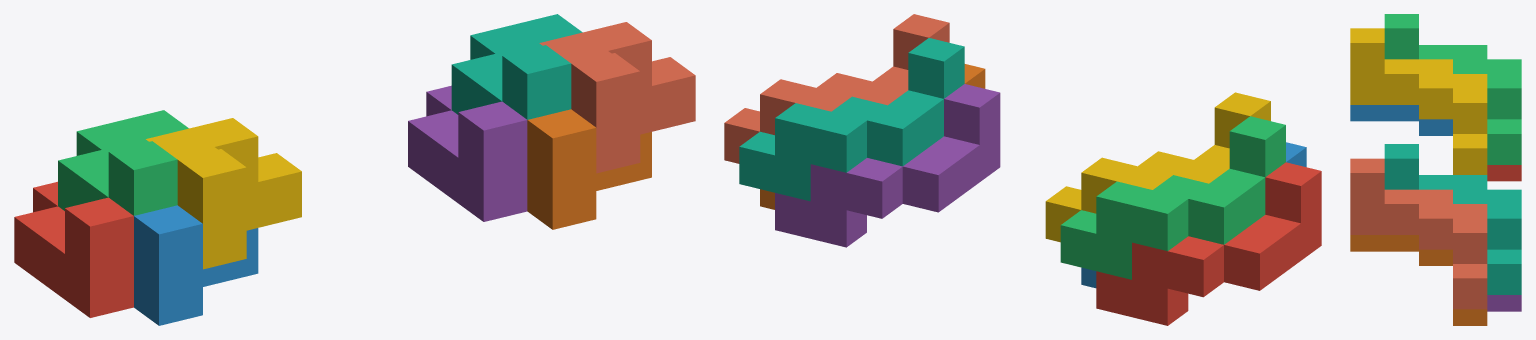
File: tiling.obj
3 renders of one model, left to right at view 1: azimuth 30°, elevation 25°; view 2: azimuth 150°, elevation 25°; view 3: azimuth 270°, elevation 25°, orthographic. The views are drawn at different scales.
Parts seen in each view (by area): view 1: copy_1_domain_8, copy_1_domain_4, copy_1_domain_5, copy_1_domain_1, copy_1_domain_7, copy_1_domain_3, copy_1_domain_6, copy_1_domain_2; view 2: copy_1_domain_3, copy_1_domain_7, copy_1_domain_5, copy_1_domain_1, copy_1_domain_4, copy_1_domain_8, copy_1_domain_6, copy_1_domain_2; view 3: copy_1_domain_8, copy_1_domain_4, copy_1_domain_7, copy_1_domain_3, copy_1_domain_6, copy_1_domain_2, copy_1_domain_1, copy_1_domain_5.
Boxes of the visible parts, x1=… form: copy_1_domain_8: x1=539, y1=22, x2=695, y2=173; copy_1_domain_4: x1=146, y1=118, x2=301, y2=269; copy_1_domain_5: x1=408, y1=85, x2=527, y2=221; copy_1_domain_1: x1=14, y1=181, x2=133, y2=317; copy_1_domain_7: x1=451, y1=14, x2=582, y2=119; copy_1_domain_3: x1=58, y1=110, x2=188, y2=215; copy_1_domain_6: x1=527, y1=109, x2=651, y2=229; copy_1_domain_2: x1=134, y1=205, x2=258, y2=325; copy_1_domain_3: x1=1060, y1=116, x2=1285, y2=279; copy_1_domain_7: x1=739, y1=38, x2=964, y2=201; copy_1_domain_5: x1=775, y1=84, x2=1000, y2=247; copy_1_domain_1: x1=1096, y1=162, x2=1321, y2=325; copy_1_domain_4: x1=1045, y1=92, x2=1270, y2=242; copy_1_domain_8: x1=724, y1=14, x2=949, y2=163; copy_1_domain_6: x1=760, y1=64, x2=985, y2=209; copy_1_domain_2: x1=1081, y1=142, x2=1306, y2=288; copy_1_domain_8: x1=1350, y1=158, x2=1487, y2=309; copy_1_domain_4: x1=1350, y1=28, x2=1487, y2=174; copy_1_domain_7: x1=1384, y1=144, x2=1521, y2=294; copy_1_domain_3: x1=1384, y1=14, x2=1521, y2=164; copy_1_domain_6: x1=1350, y1=235, x2=1487, y2=325; copy_1_domain_2: x1=1350, y1=105, x2=1452, y2=135; copy_1_domain_1: x1=1487, y1=165, x2=1521, y2=181; copy_1_domain_5: x1=1487, y1=295, x2=1521, y2=311.
Size of the model in its own units: 15 by 4 by 5.
